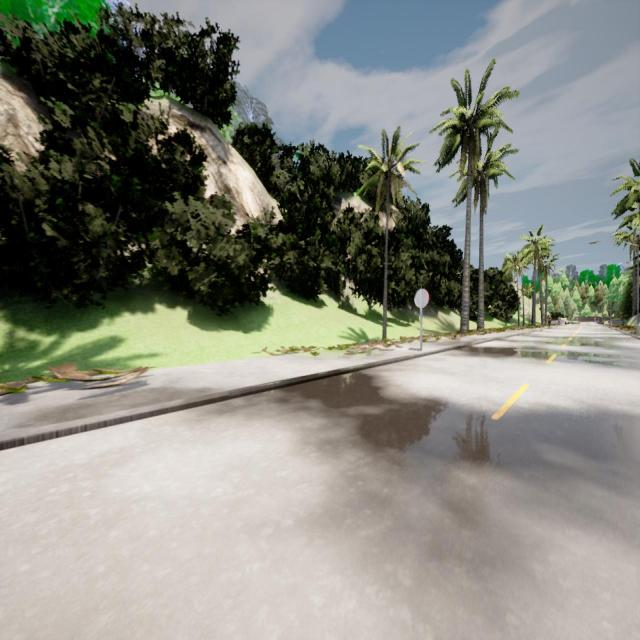Pedestrian: (546, 313, 553, 329), (557, 315, 562, 326)
Traffic_Signs: (414, 288, 429, 308)
Vehicle: (571, 319, 580, 325)
